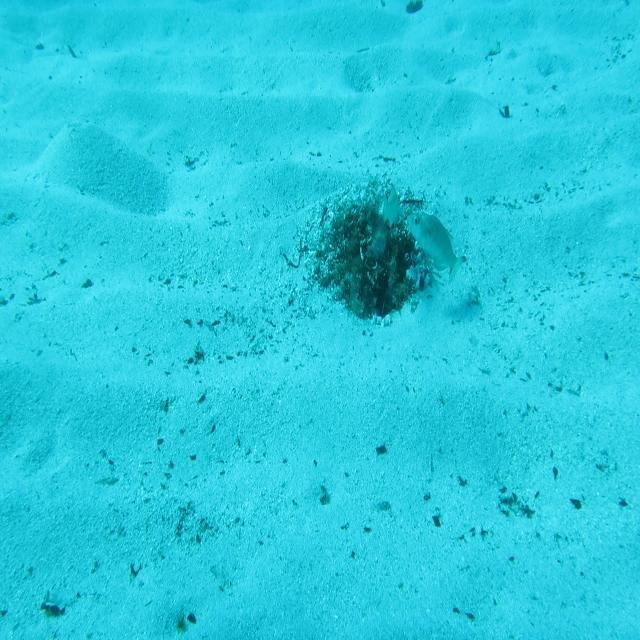GB: (404, 208, 465, 290)
female: (373, 183, 402, 237)
nest: (310, 176, 438, 331)
